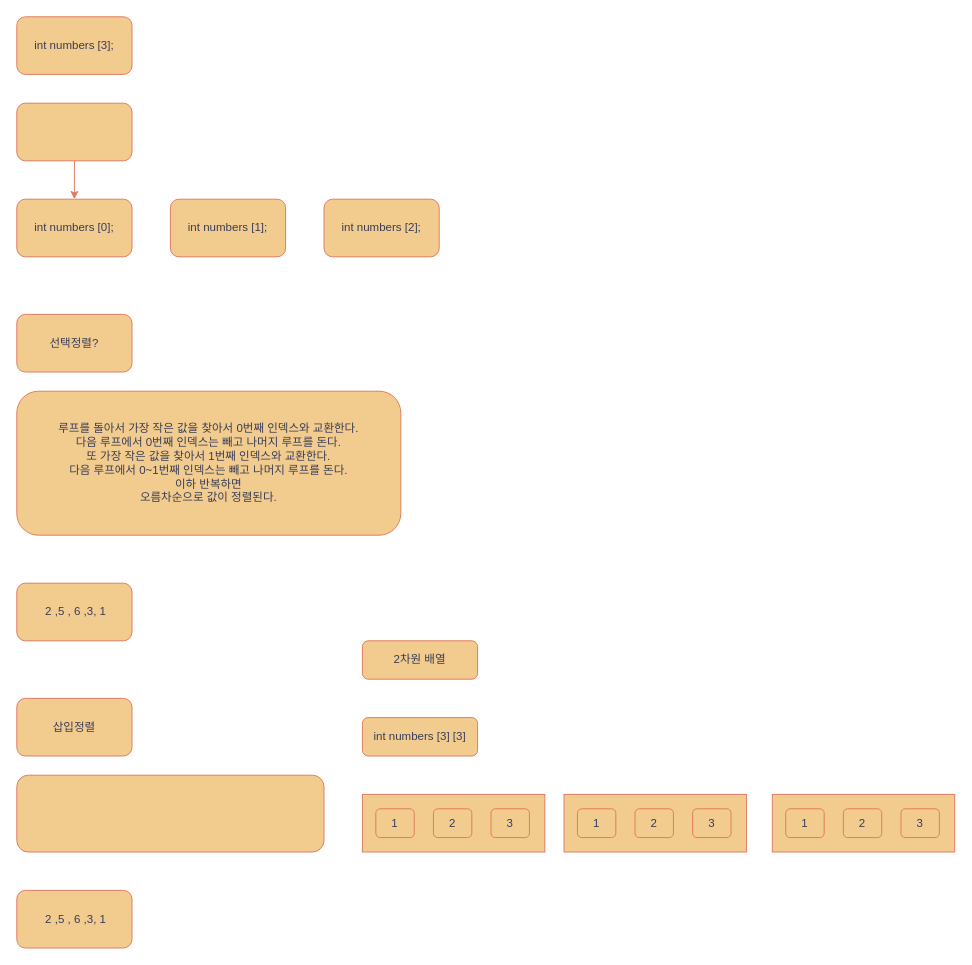
Some shapes in this 972 by 965 pixel diagram are drawn without their labels. The box of each missing label's shape, as (x1, y1, x2, y2) in pixels:
numbers: (16, 102, 132, 161)
삽입 정렬은 메인 루프를 돌아서 정렬할 요소를 선택한다. 정렬할 요소를 이미 정렬이 끝난 배열 안에서 제자리를 찾아가도록 스왑한다.: (16, 774, 324, 852)
